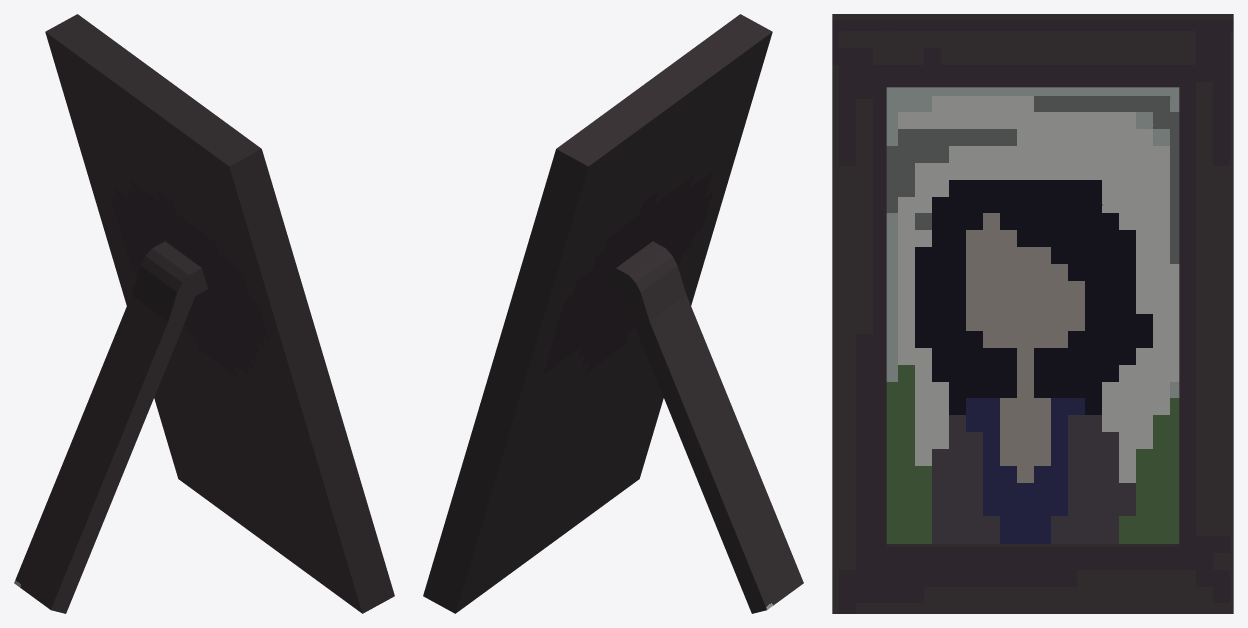
The model's file is picture frame2.fbx.
3 renders of one model, left to right at view 1: azimuth 30°, elevation 25°; view 2: azimuth 150°, elevation 25°; view 3: azimuth 270°, elevation 25°, orthographic. The views are drawn at different scales.
Parts seen in each view (by area): view 1: Cube.006; view 2: Cube.006; view 3: Cube.006.
Part boxes in pixels (box(x1,y1,x2,y2)): Cube.006: box(14, 14, 394, 613); Cube.006: box(423, 14, 803, 613); Cube.006: box(832, 14, 1233, 613).
Size of the model in its own units: 186 by 322 by 220.
Materials: 1 (1 with a texture image).
